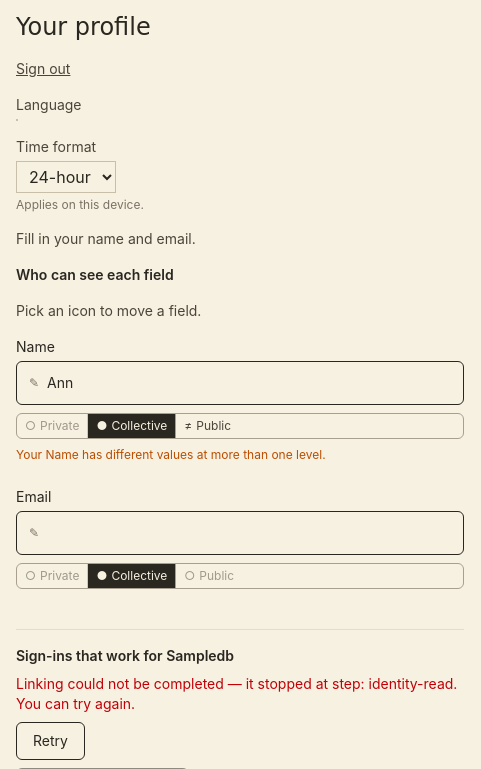
Test: /profile v2 — #131 conflict resolution (browse-then-confirm) › AC6: pressing Escape while previewing dismisses the preview back to the active value
The image size is (481, 769).
Check: the element with test id "profile-field-name" is shown, box [16,337,464,463]
Click the button with test id "profile-vis-name-public": point(208, 426) [176,414,239,438]
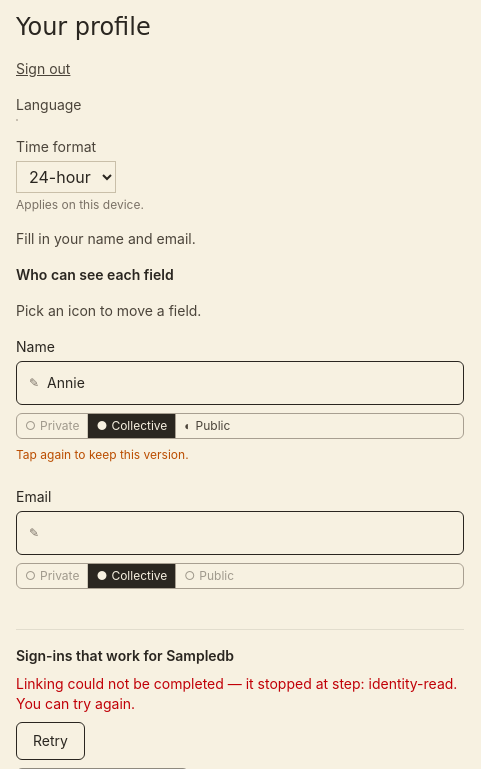
Check: the text "Annie" is shown, box [47,374,85,391]
Check: the text "◐" is shown, box [184,418,192,434]
Press Escape in the button with test id "profile-vis-name-public", box [176,414,238,438]
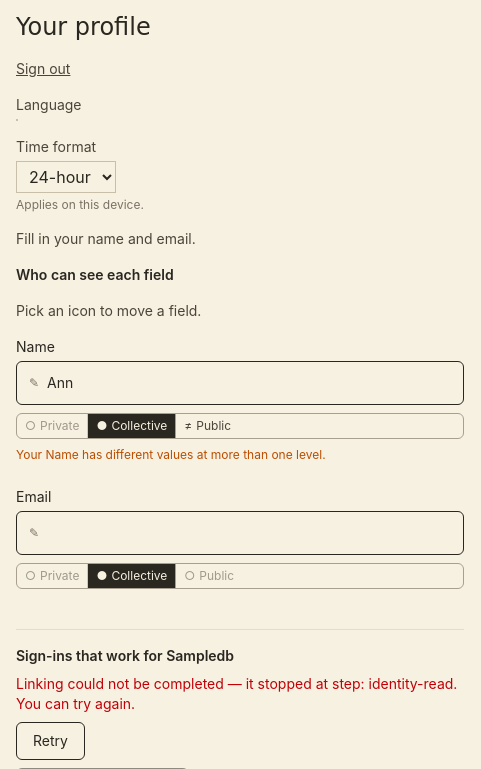
Check: the text with test id "profile-vis-name-public-preview" is gone
Check: the text with test id "profile-vis-name-preview-note" is gone
Check: the text "Your Name has different values at more than one level." is shown, box [16,447,326,462]
